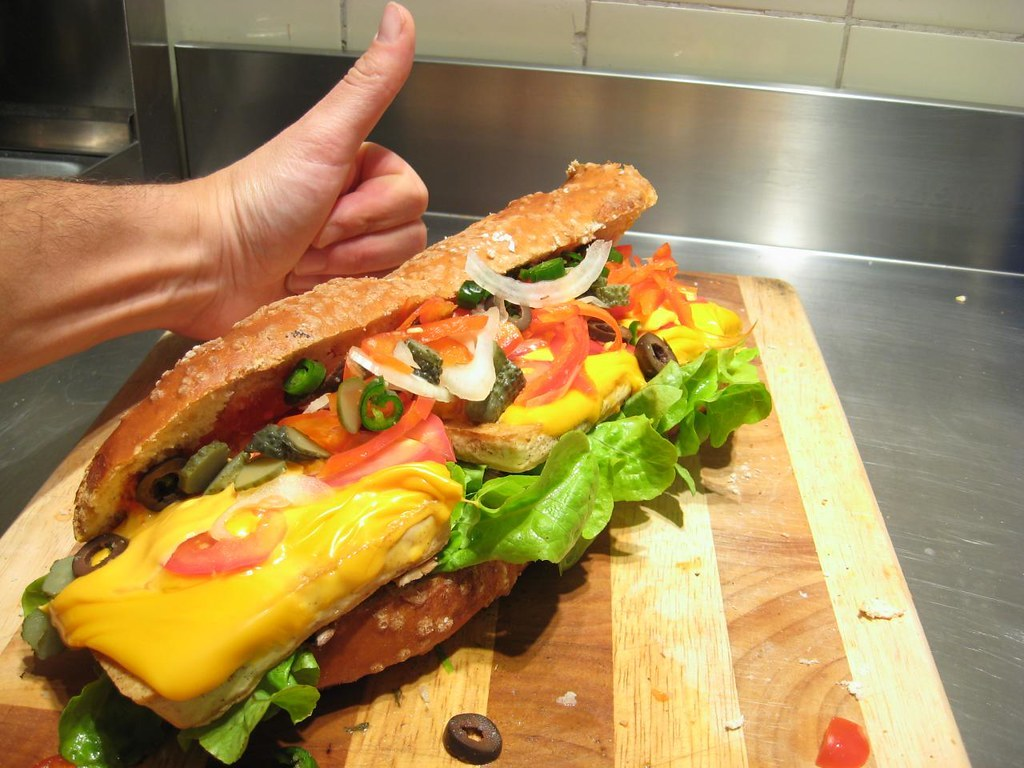cheese: (108, 530, 329, 660)
